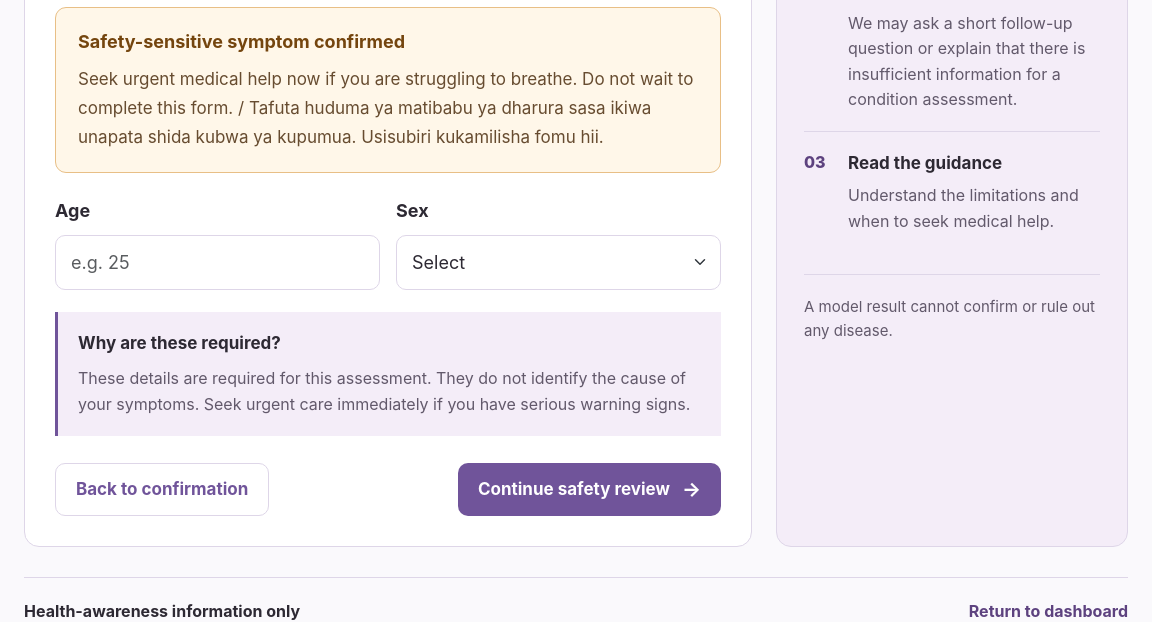
Test: Prediction submission workflow › submits a red-flag case and shows urgent guidance
This screenshot has width=1152, height=622.
(page scrolled)
Type "25" into the number field labelled "Age". click: (218, 262)
box: [55,235,380,290]
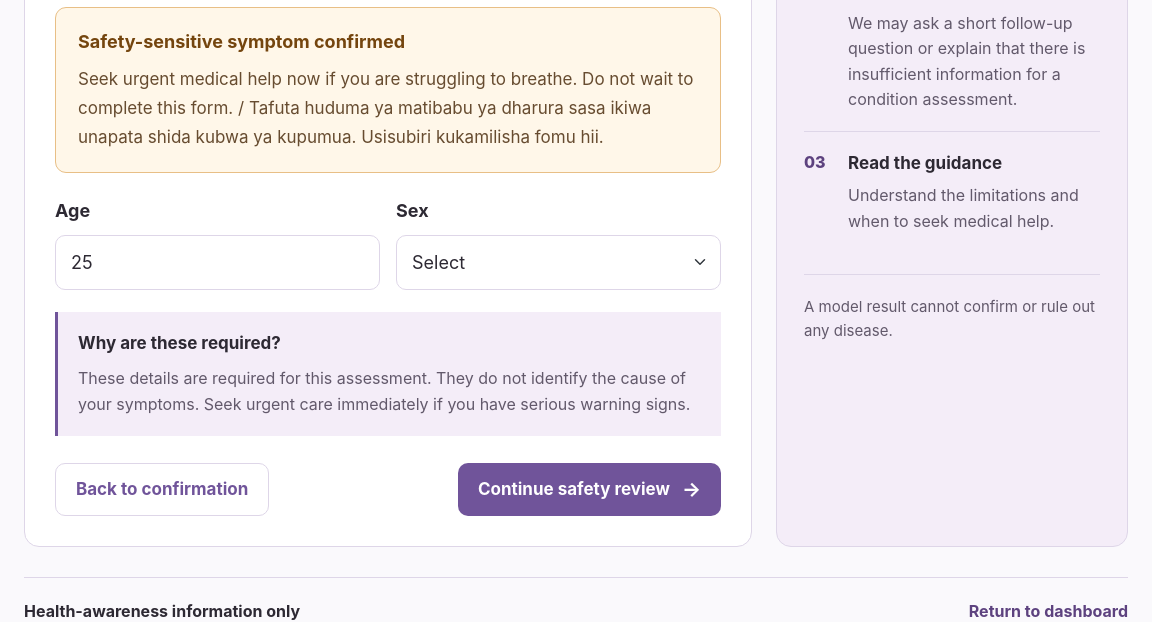
Select "Male" in the dropdown labelled "Sex". click: (558, 262)
box: [396,235,721,290]
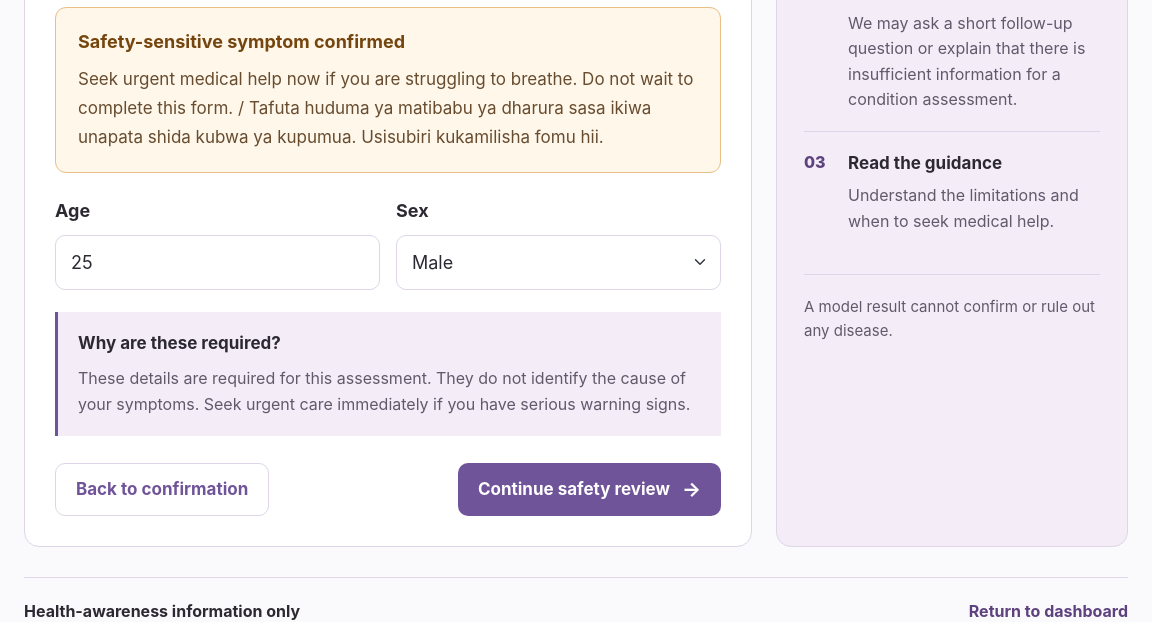
expect the text "Safety-sensitive symptom confirmed" is shown: met, box [78,31,405,52]
Click the button "Continue safety review →". click: (589, 489)
box: [458,463,721,516]
(page scrolled)
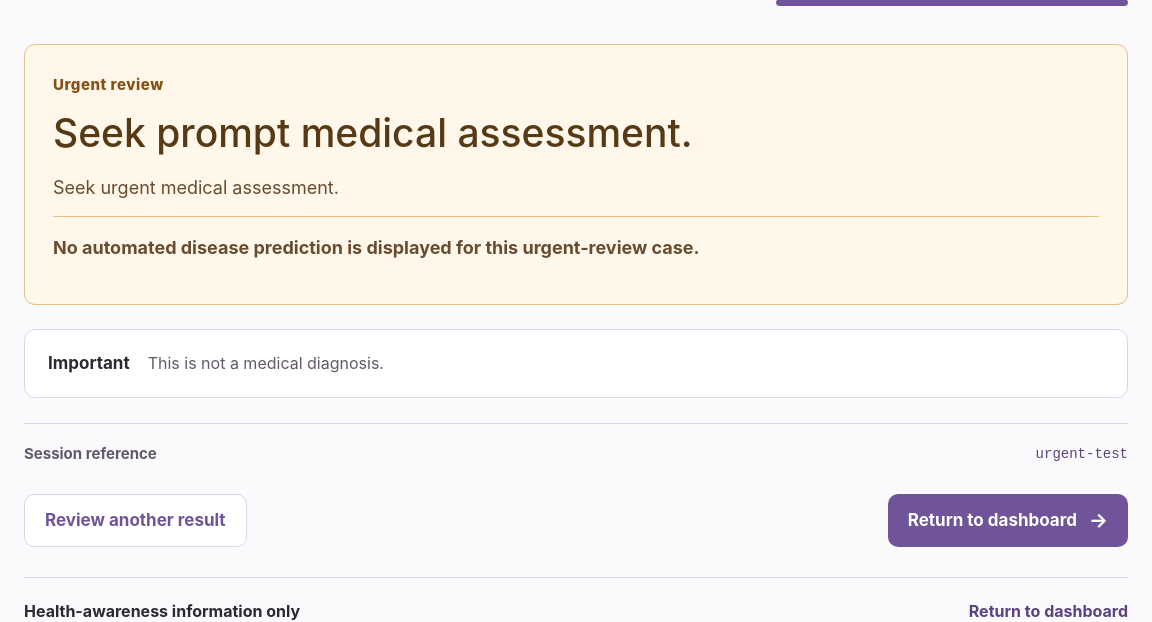
expect the text "Seek urgent medical assessment." is shown: met, box [53,177,339,198]
